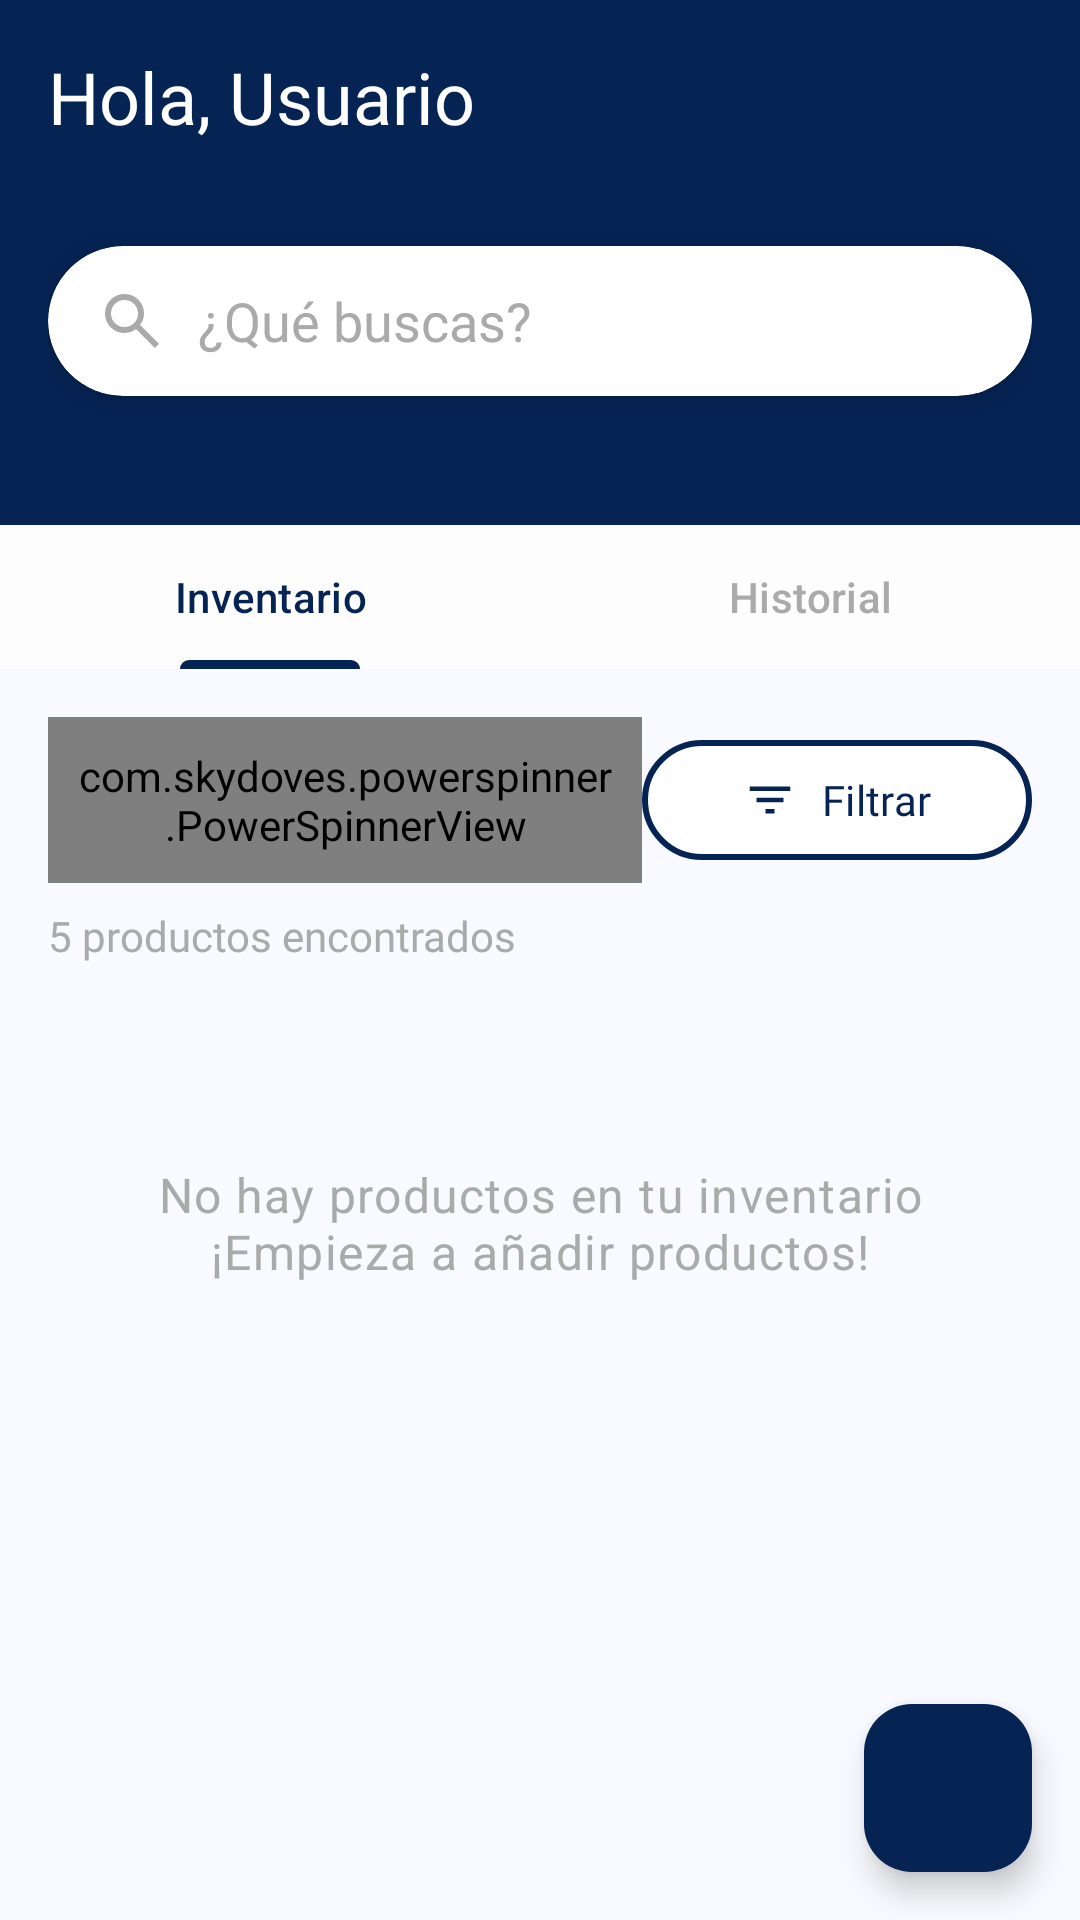

Where to tap for icons on this 1080px x 1920px app screen, as [x,y]:
search: [132,321]
